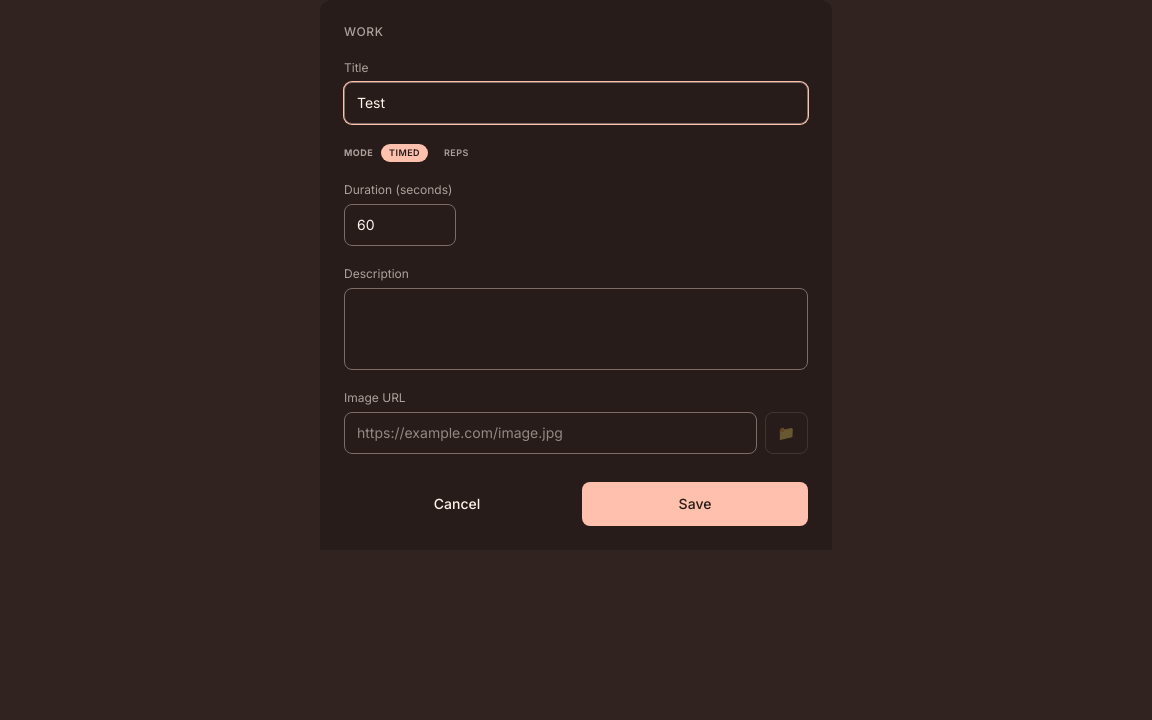
Scenario: IntervalDetailSheet › hides duration input for work interval when Reps mode is selected
Click the button "Reps" at coordinates (456, 153), box x1=436 y1=144 x2=477 y2=162
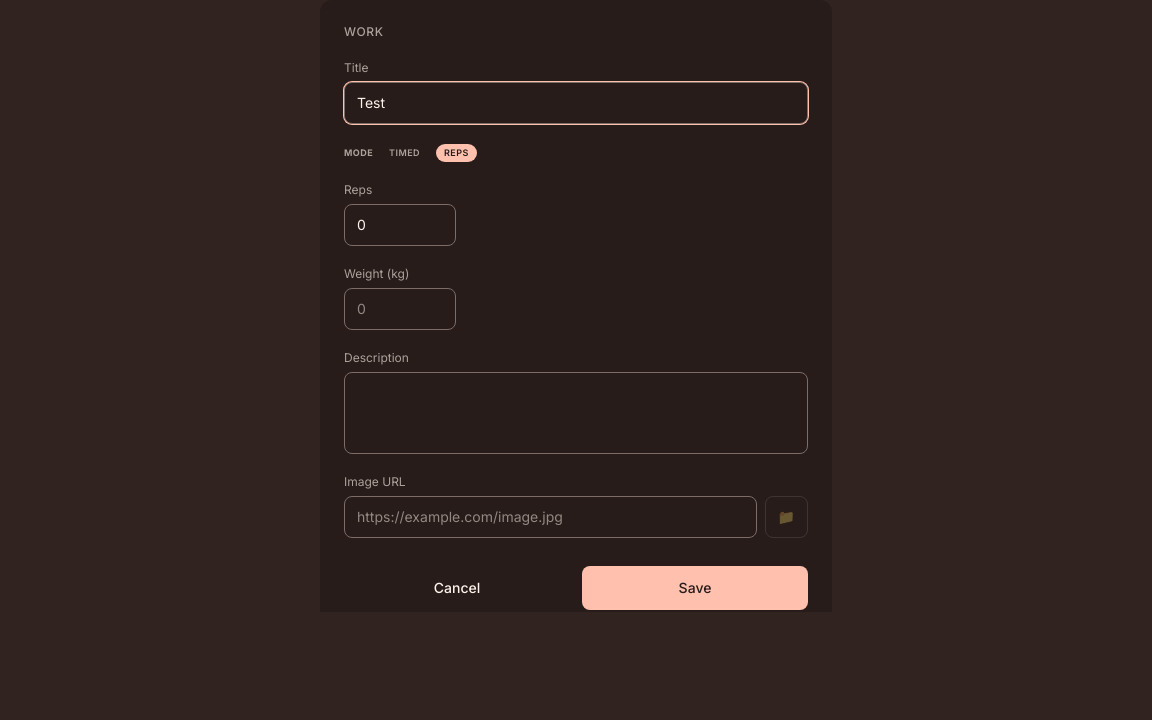
Result: the text labelled "Duration (seconds)" is gone
